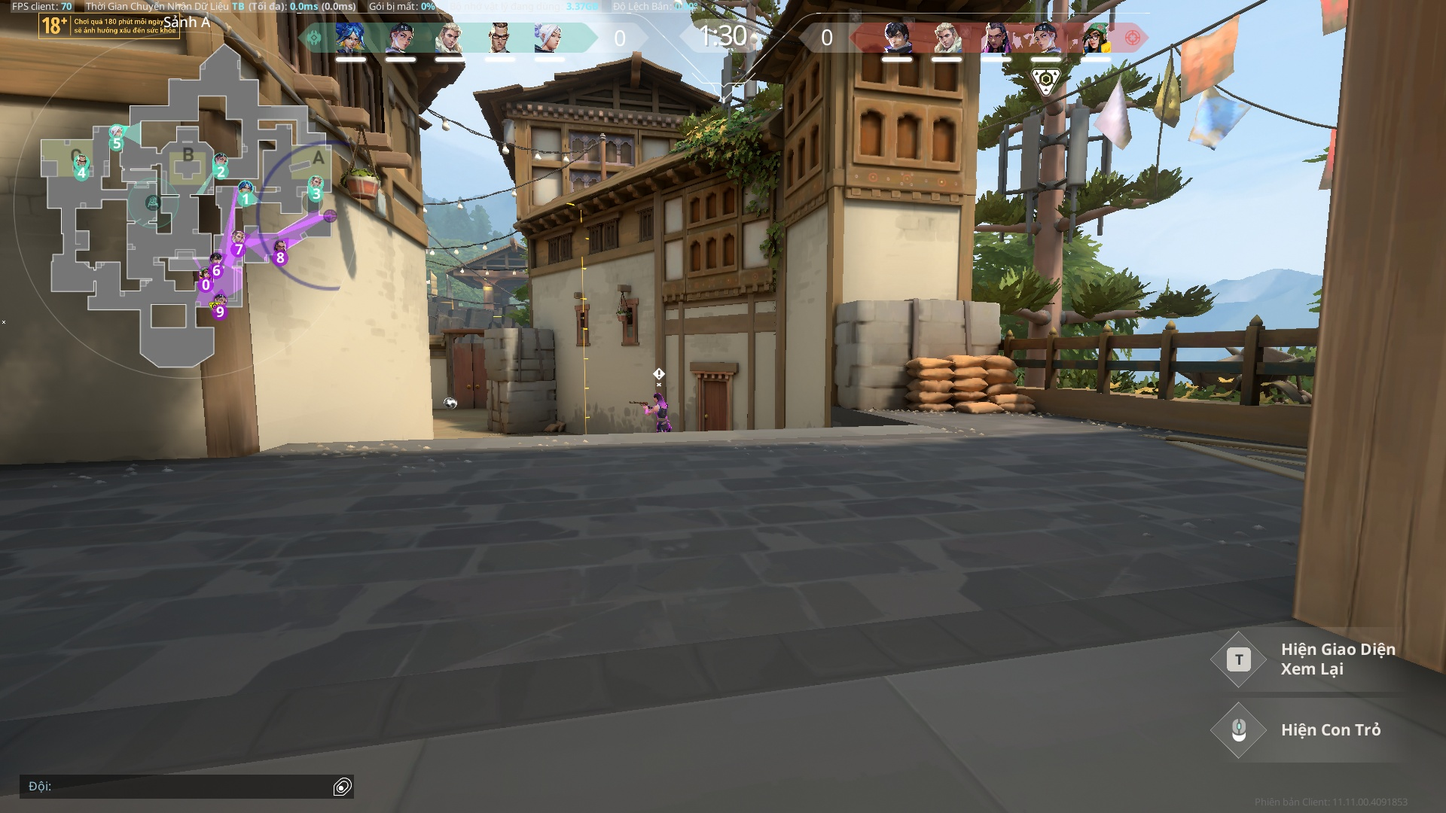body: (653, 402, 670, 424)
head: (651, 393, 662, 401)
